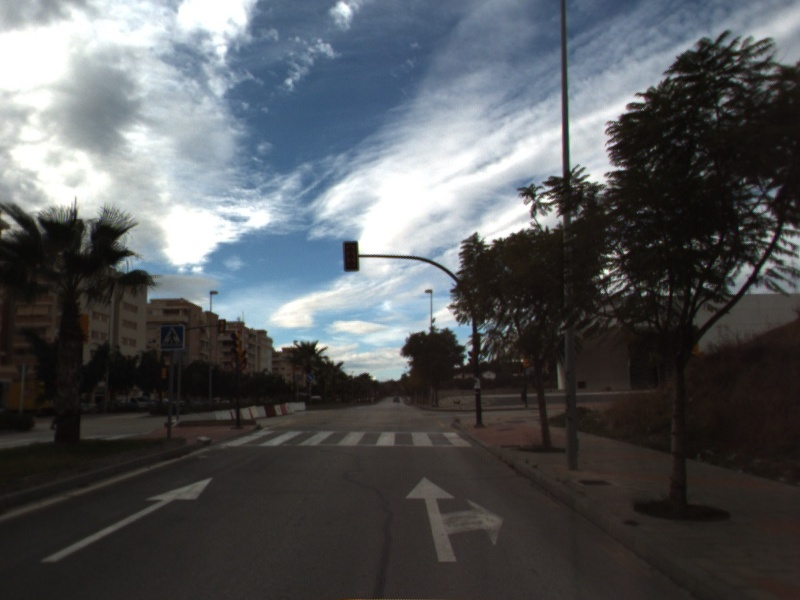STRAIGHT: (39, 475, 215, 564)
STRAIGHT_RIGHT: (403, 475, 506, 564)
